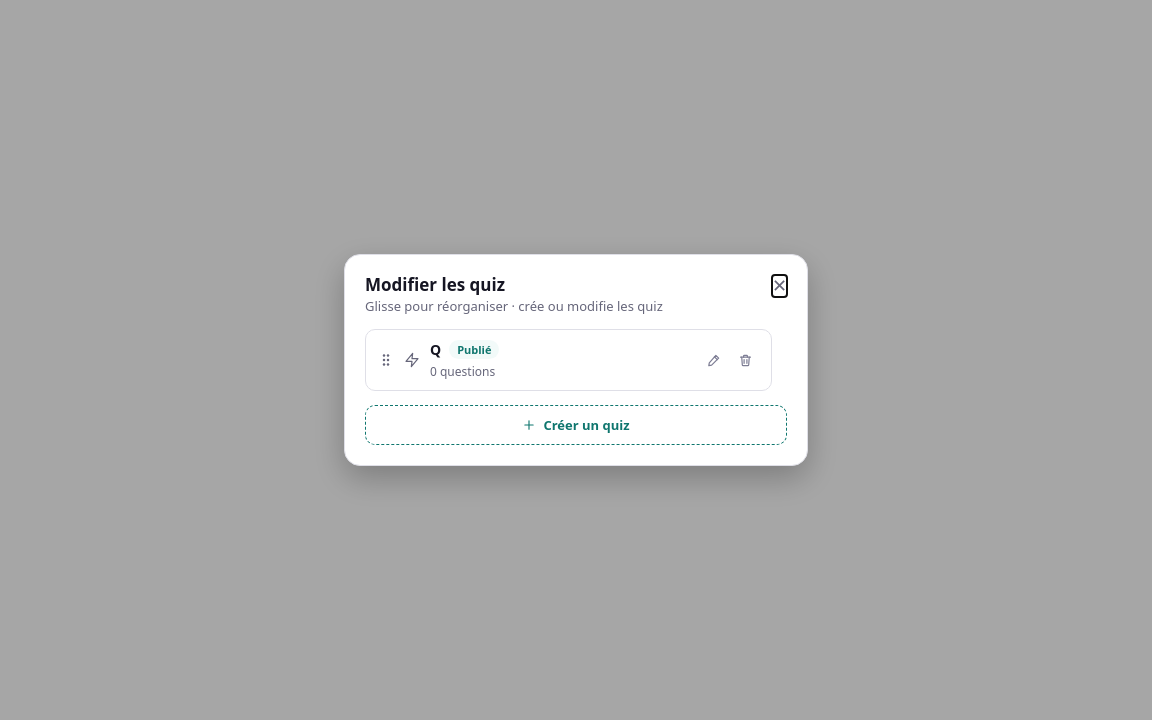
QuizEditor — persistance méta (un seul appel) › échec de sauvegarde : affiche le popup d'erreur, reste sur le formulaire
Click the button named "Modifier Q".
click(713, 360)  # box [699,346,727,374]
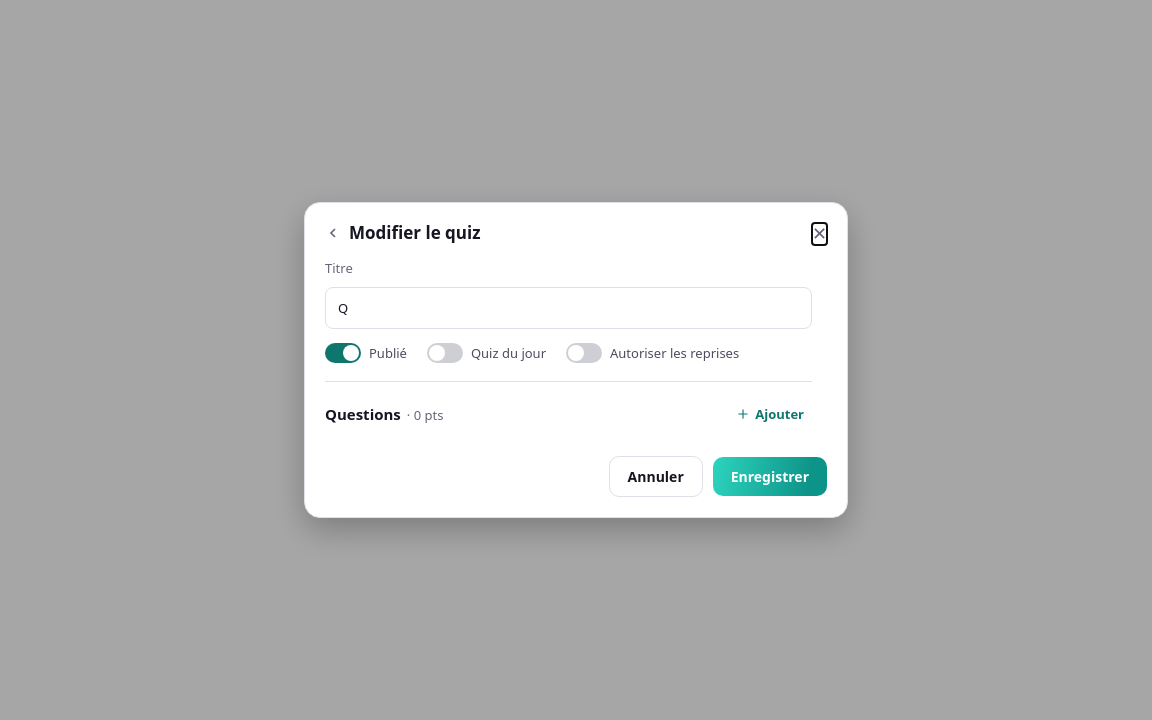
Click the button "Enregistrer".
click(770, 476)  # box [713,457,827,496]
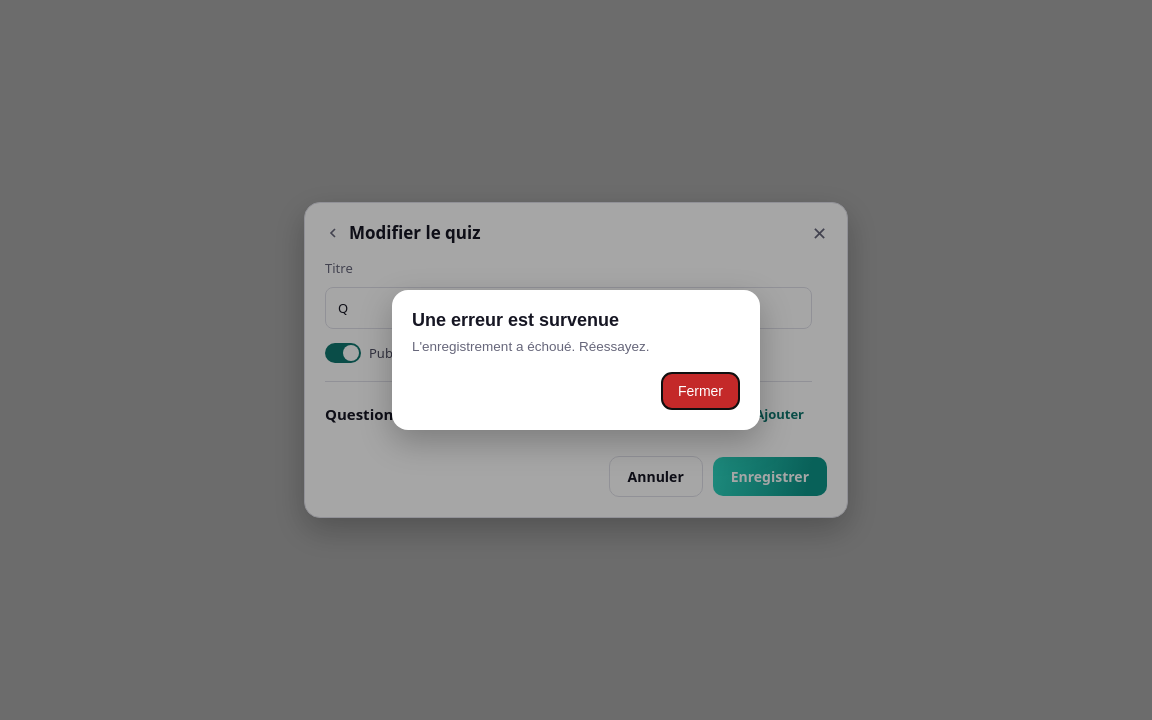
Expected: the heading "Modifier le quiz" is shown, [349,223,480,243]
Expected: the text "L'enregistrement a échoué. Réessayez." is shown, [412,338,650,358]
